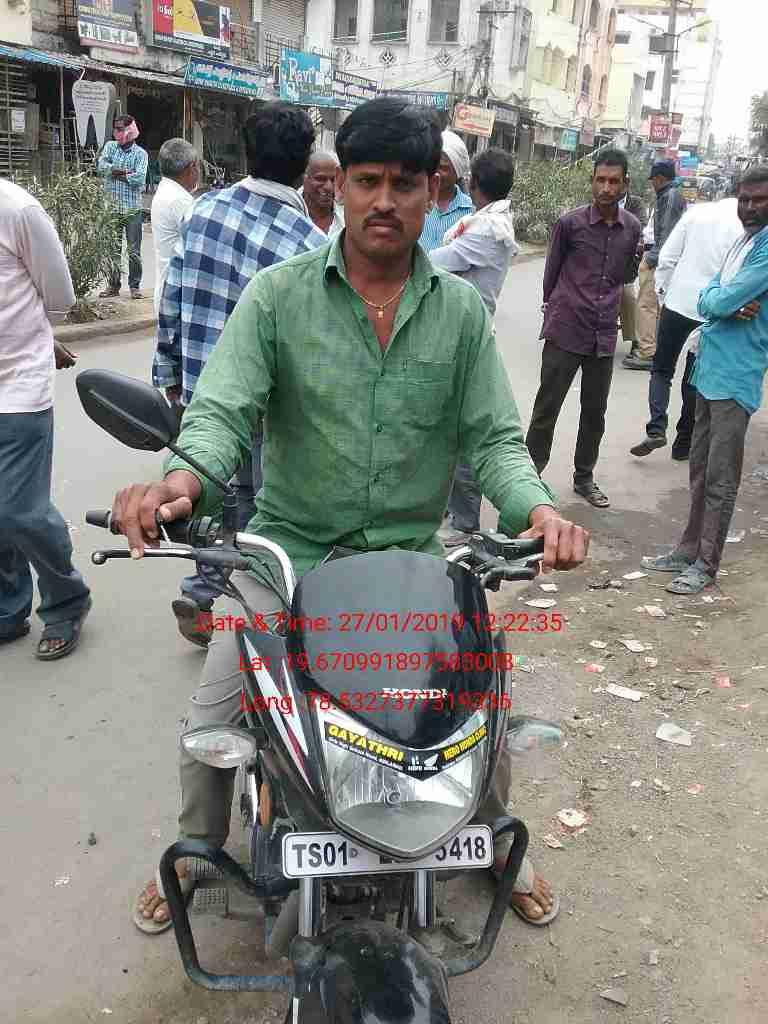plate: (274, 827, 499, 883)
